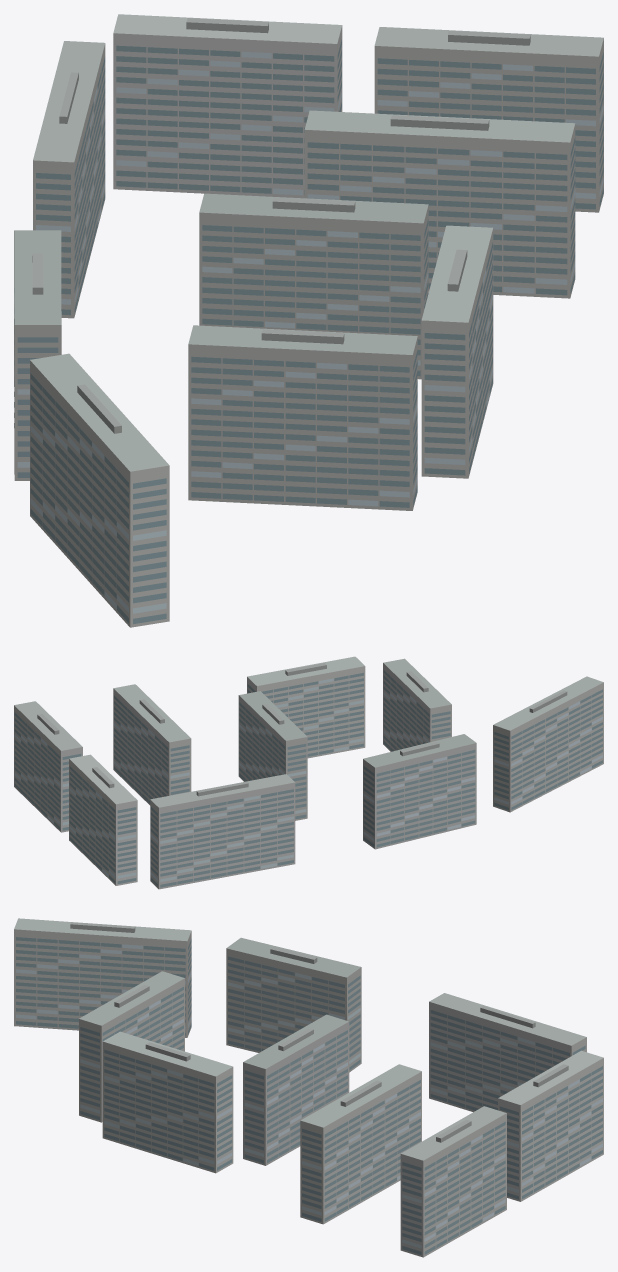
File: apt-a15780603.glb
The picture shows the model from 3 angles, top to bottom: view 1: azimuth 30°, elevation 25°; view 2: azimuth 150°, elevation 25°; view 3: azimuth 270°, elevation 25°; orthographic projection. The views are drawn at different scales.
Parts seen in each view (by area): view 1: apt-a15780603; view 2: apt-a15780603; view 3: apt-a15780603.
Boxes of the visible parts, box(x1,y1,x2,y2) form: apt-a15780603: box(14, 14, 603, 627); apt-a15780603: box(14, 656, 603, 889); apt-a15780603: box(14, 918, 603, 1257).
Size of the model in its own units: 246 by 47.81 by 253.
